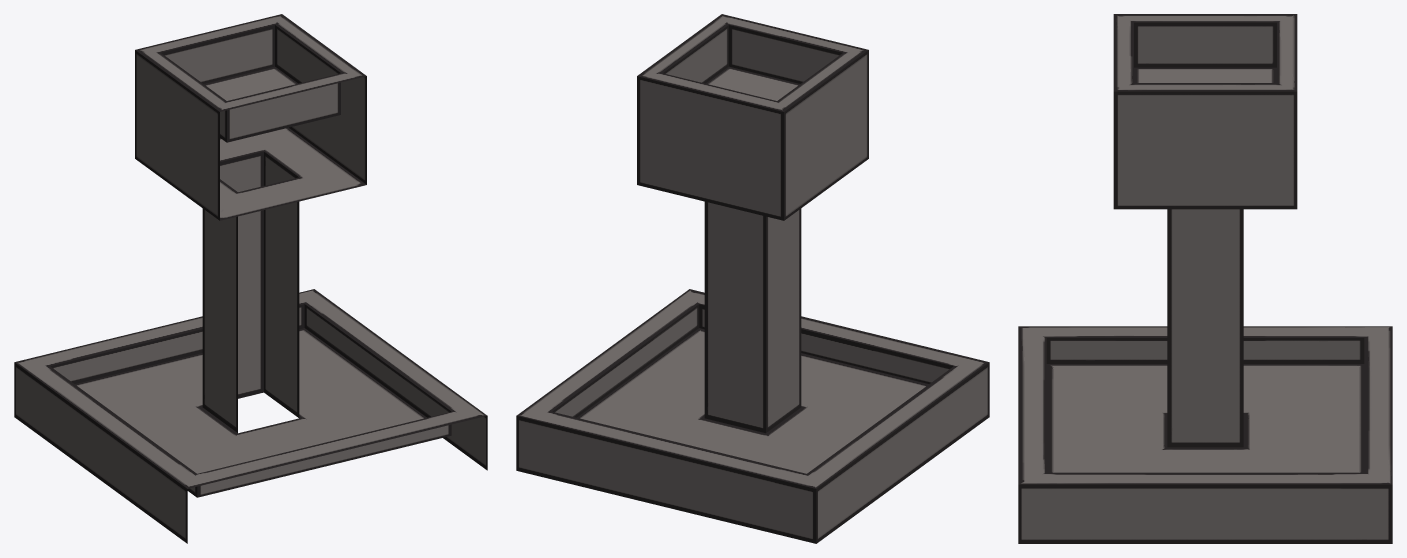
The model's file is Chechpoint off.fbx.
3 renders of one model, left to right at view 1: azimuth 30°, elevation 25°; view 2: azimuth 150°, elevation 25°; view 3: azimuth 270°, elevation 25°, orthographic. The views are drawn at different scales.
Parts seen in each view (by area): view 1: Cube; view 2: Cube; view 3: Cube.
Part boxes in pixels (bbox=[...]): Cube: bbox=[14, 14, 487, 543]; Cube: bbox=[516, 14, 989, 543]; Cube: bbox=[1018, 14, 1392, 543].
Bounding box in the file's own units: 738 × 896 × 738.
